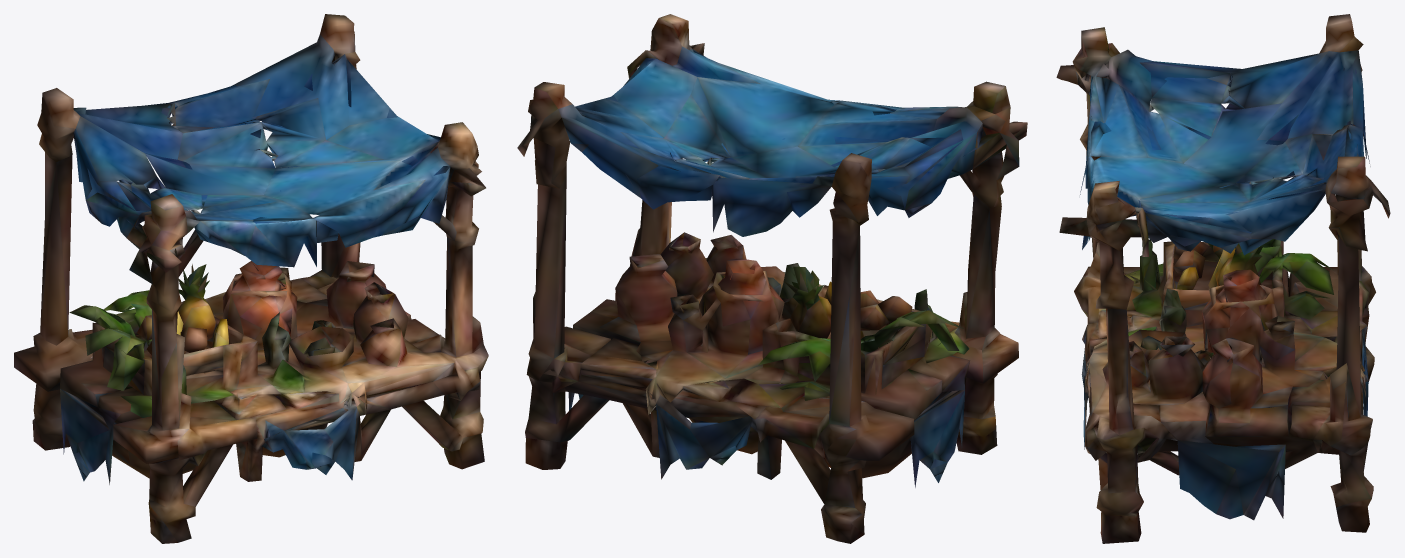
The model's file is prop-stall-tarp-v2-mobile.glb.
The picture shows the model from 3 angles, left to right: view 1: azimuth 30°, elevation 25°; view 2: azimuth 150°, elevation 25°; view 3: azimuth 270°, elevation 25°; orthographic projection. The views are drawn at different scales.
Visible parts, largest first — view 1: tripo_node_291facad-19ee-4f34-a923-aa34220345fd; view 2: tripo_node_291facad-19ee-4f34-a923-aa34220345fd; view 3: tripo_node_291facad-19ee-4f34-a923-aa34220345fd.
Part boxes in pixels (box(x1,y1,x2,y2)): tripo_node_291facad-19ee-4f34-a923-aa34220345fd: box(14, 14, 488, 543); tripo_node_291facad-19ee-4f34-a923-aa34220345fd: box(517, 14, 1027, 543); tripo_node_291facad-19ee-4f34-a923-aa34220345fd: box(1056, 14, 1390, 543).
Size of the model in its own units: 0.9835 by 0.9446 by 0.7668.
Materials: 1 (1 with a texture image).
